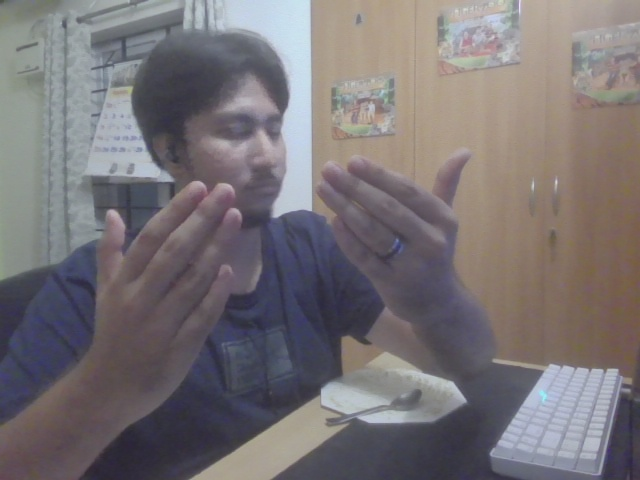thankyou: (91, 147, 478, 386)
